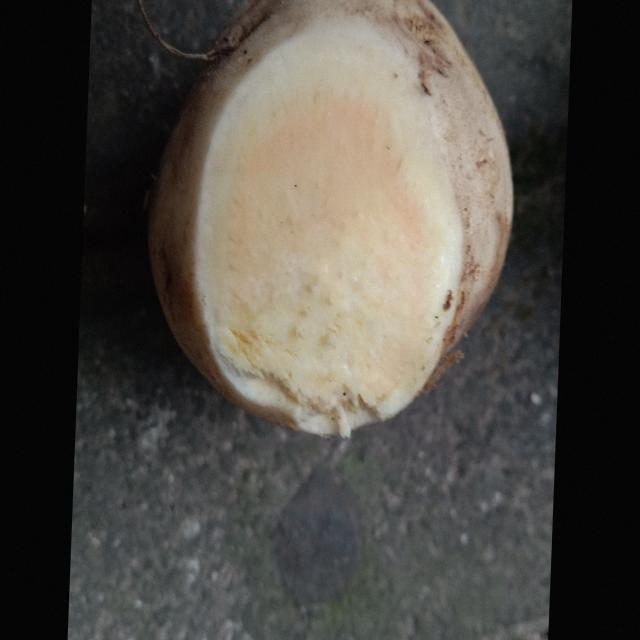Healthy Sweet Potato: (195, 18, 462, 437)
